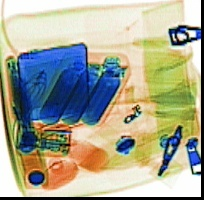powerbank: (36, 50, 132, 128)
